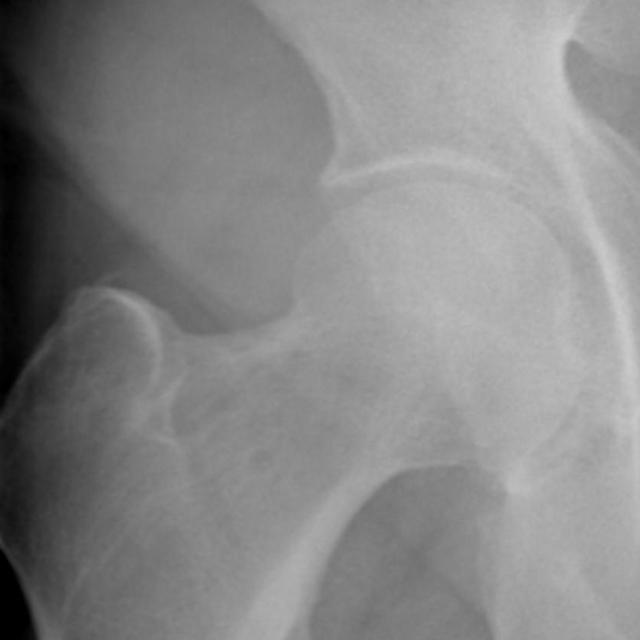Fitted_femural_head: (307, 183, 432, 307)
